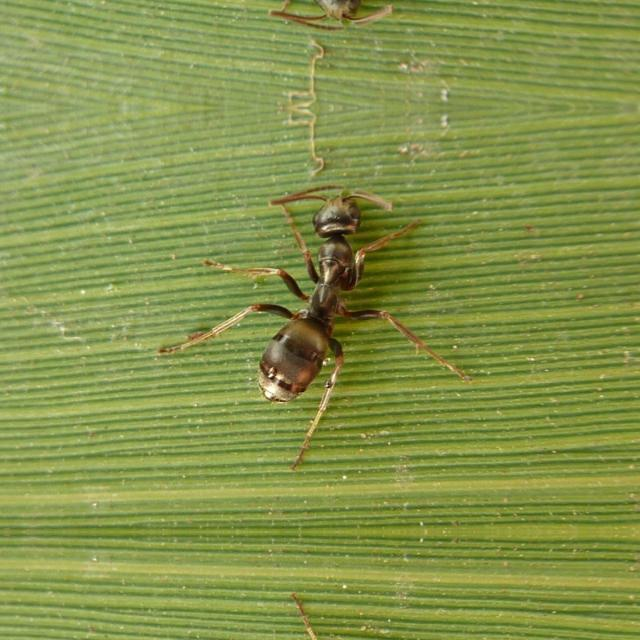Formica: (220, 172, 432, 434)
